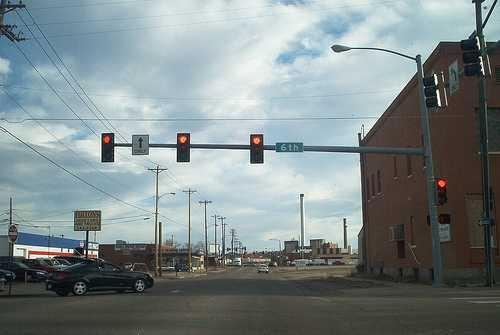red: (433, 177, 451, 209), (176, 133, 191, 165), (251, 132, 264, 167), (101, 133, 115, 161)
